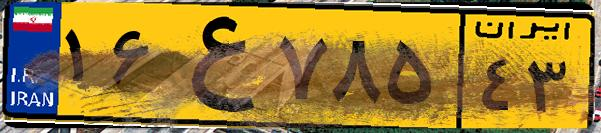1: (57, 26, 110, 100)
3: (525, 38, 570, 115)
4: (475, 38, 525, 113)
5: (385, 28, 445, 110)
6: (110, 28, 158, 98)
7: (270, 28, 330, 110)
8: (330, 28, 385, 110)
ع: (158, 12, 270, 120)
